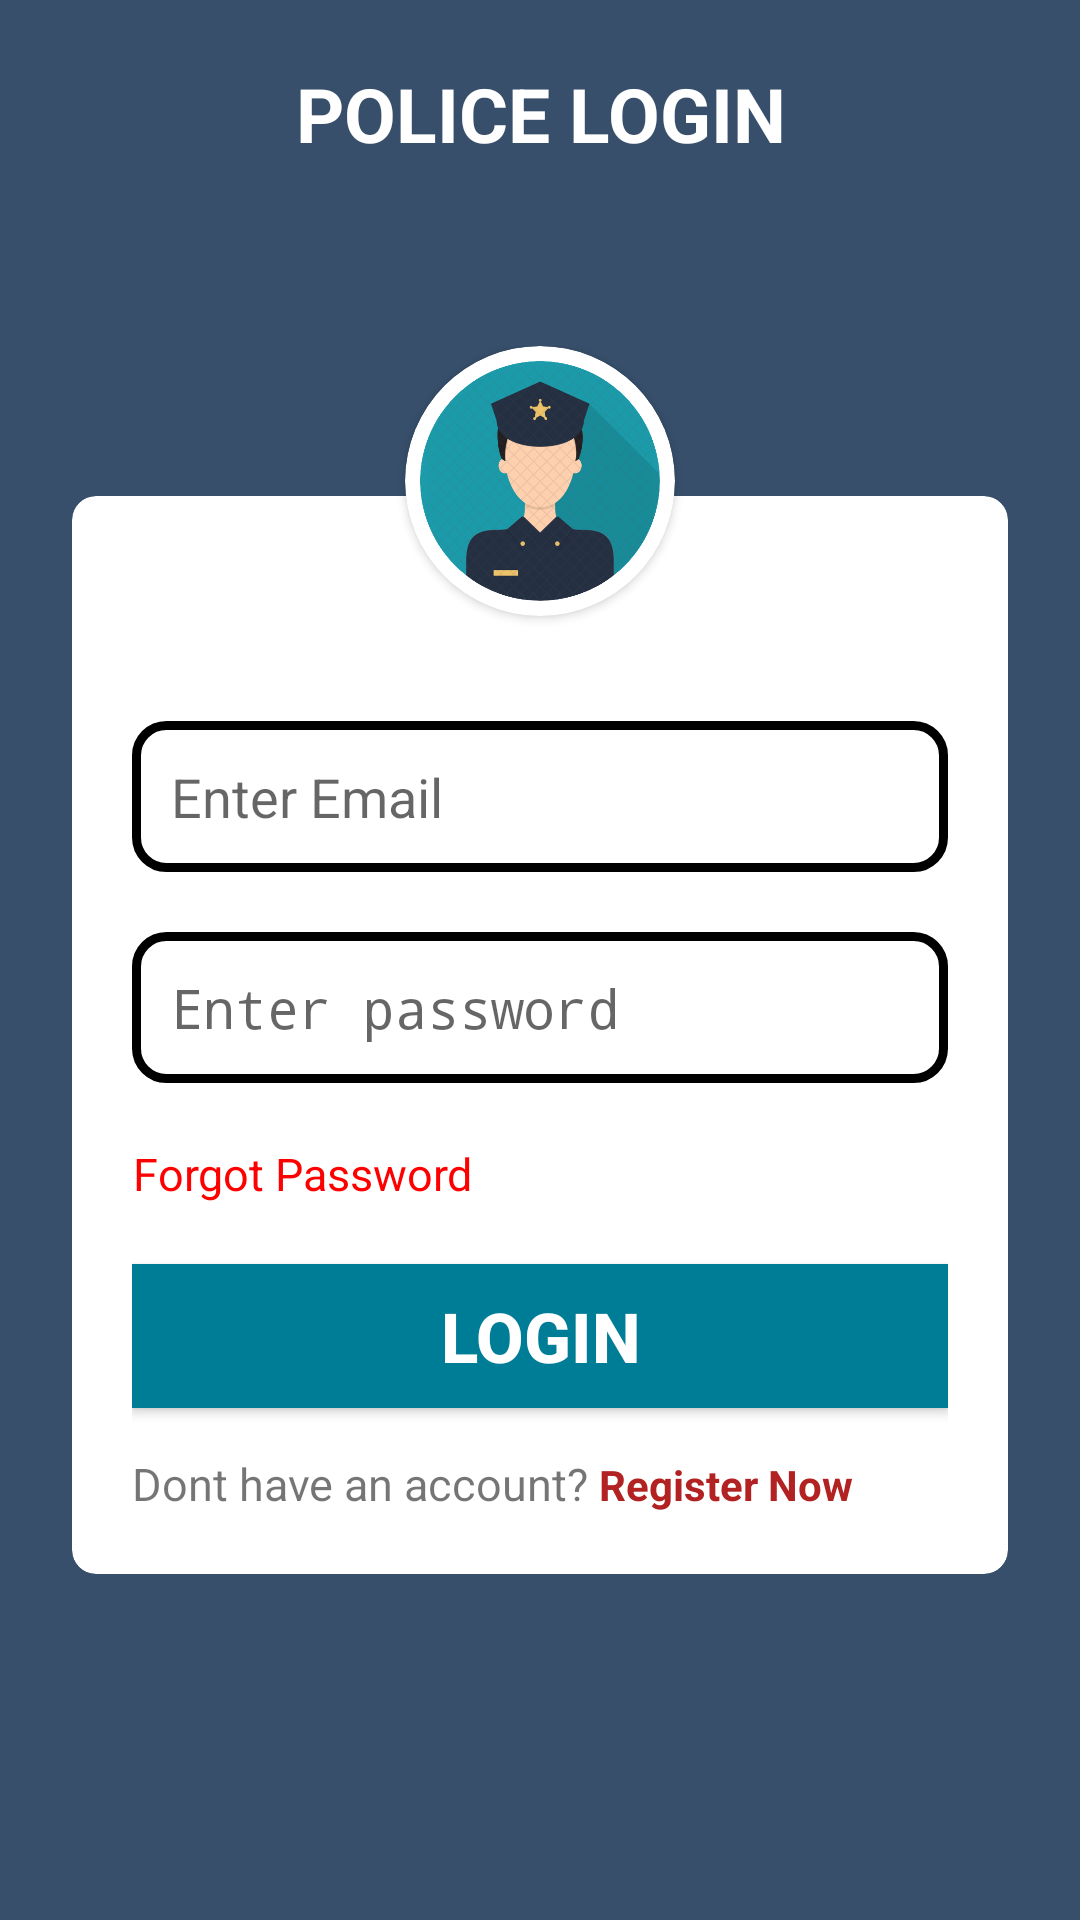

Screen size 1080 × 1920. Icon name, then its center in pixels as (x,y):
police: (540,481)
